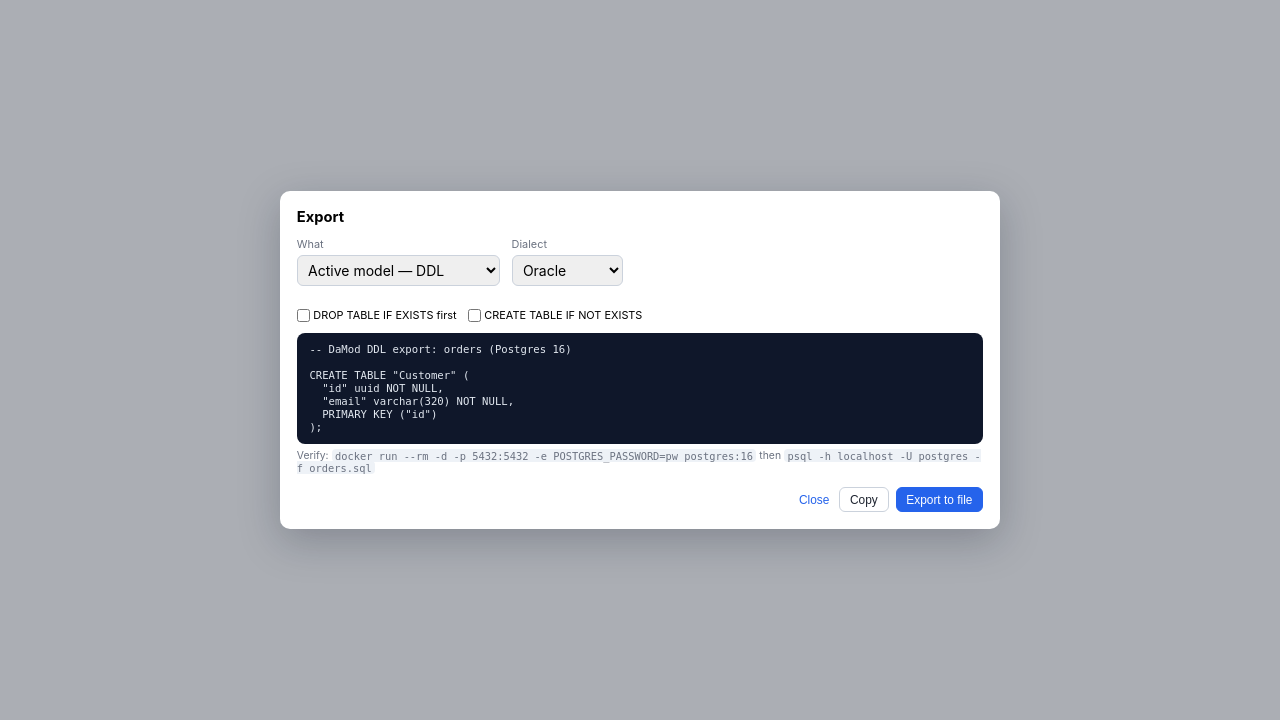
Test: Export dialog dialect dropdown › generates Oracle DDL when Oracle is selected
The image size is (1280, 720).
Select "Oracle" in the dropdown below "Dialect". click: (567, 270)
box: [512, 255, 623, 286]
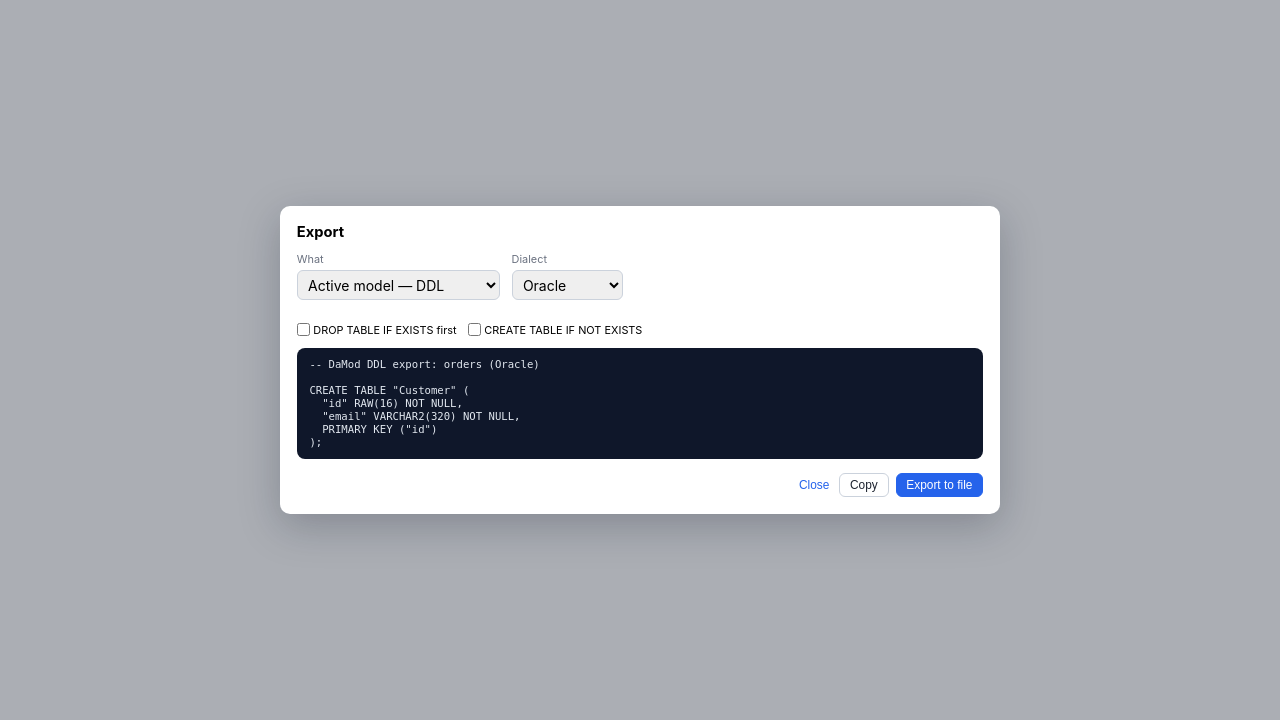
Expected: the text with class "export-preview" shows "VARCHAR2", [309, 358, 540, 449]
